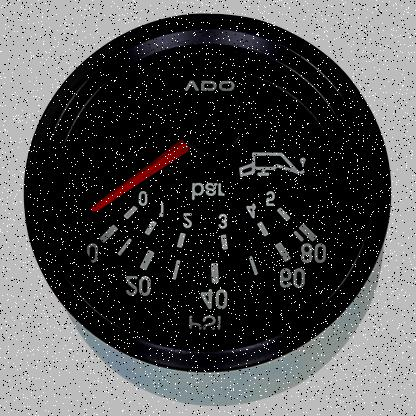needle: (89, 139, 191, 215)
